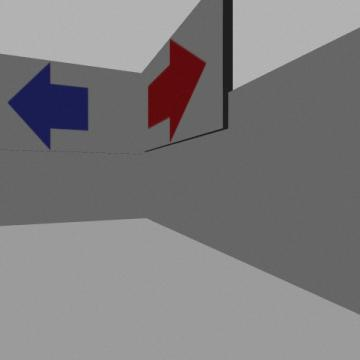blue_left: (8, 63, 88, 148)
red_right: (148, 39, 205, 141)
